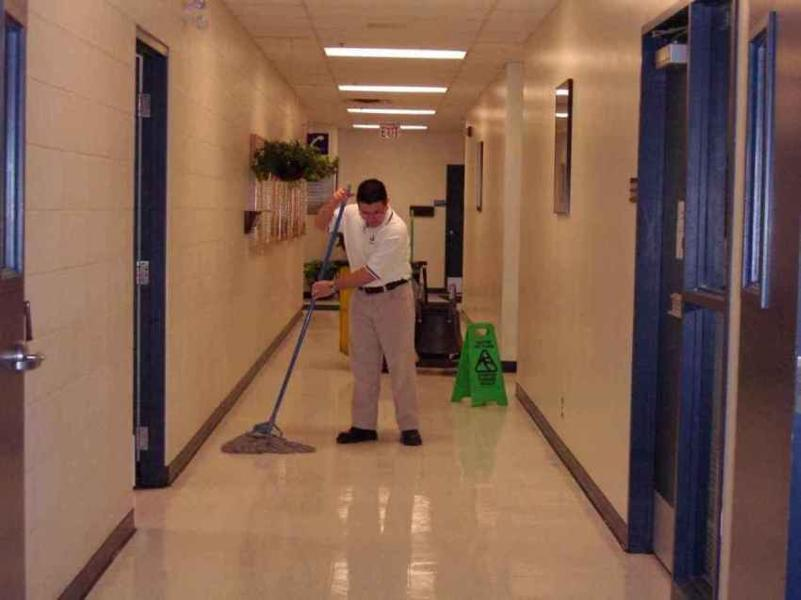person: (310, 177, 424, 447)
